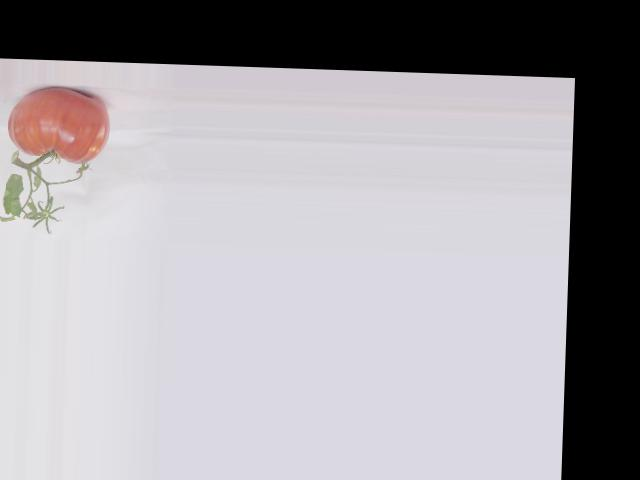tomato: (6, 85, 111, 164)
